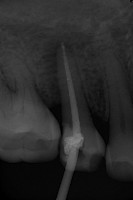Dental Caries: (44, 32, 91, 105)
